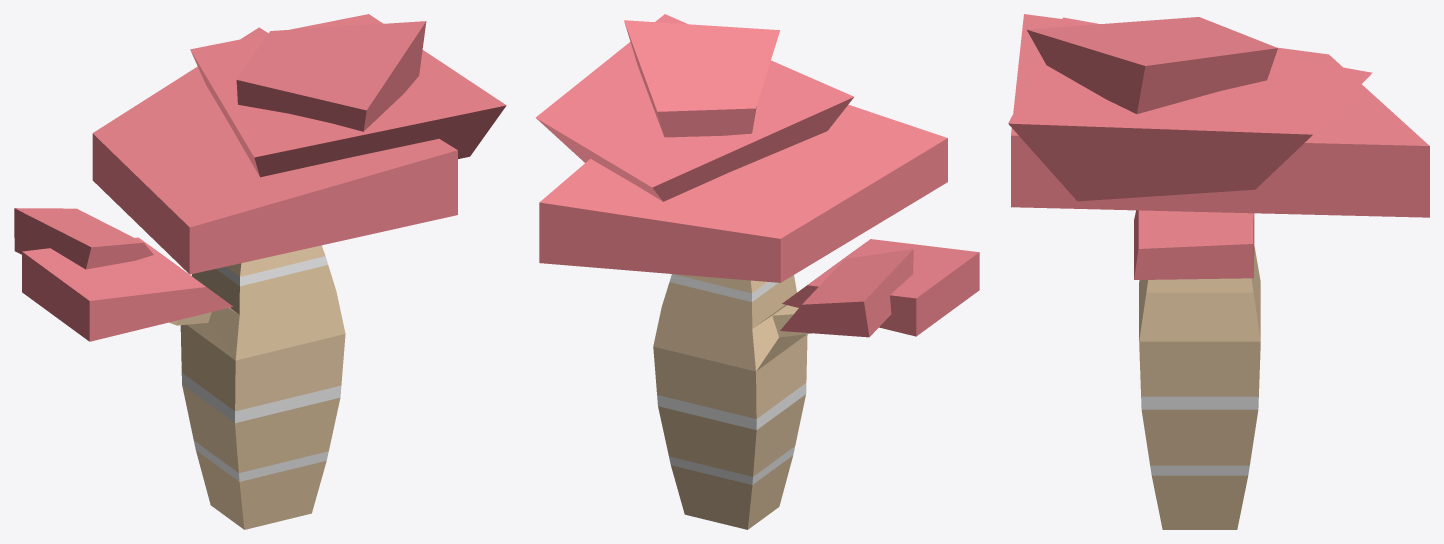
File: Tree3.fbx
3 renders of one model, left to right at view 1: azimuth 30°, elevation 25°; view 2: azimuth 150°, elevation 25°; view 3: azimuth 270°, elevation 25°, orthographic. The views are drawn at different scales.
Parts seen in each view (by area): view 1: Tree3; view 2: Tree3; view 3: Tree3.
Boxes of the visible parts, x1=… form: Tree3: x1=14, y1=14, x2=506, y2=529; Tree3: x1=535, y1=14, x2=979, y2=529; Tree3: x1=1008, y1=14, x2=1429, y2=529.
Bounding box in the file's own units: 1217 × 1456 × 1067.
